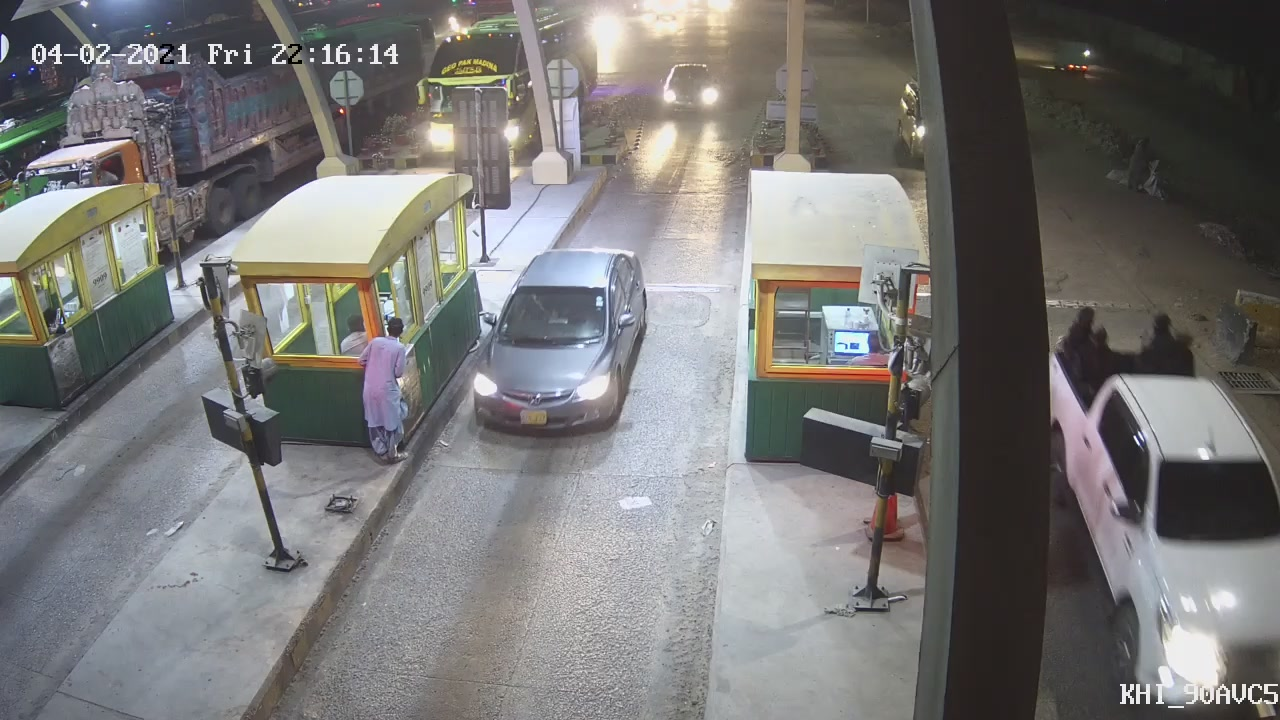F1: (468, 237, 657, 440)
